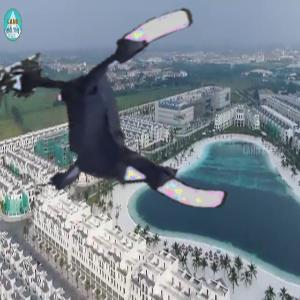drone: (18, 23, 238, 243)
